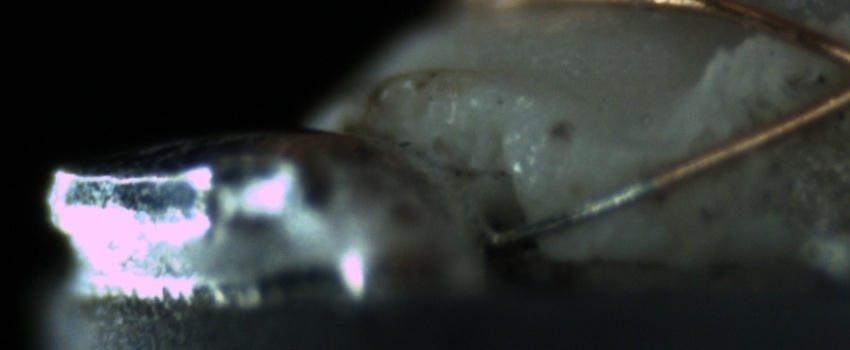TS: (491, 173, 652, 244)
